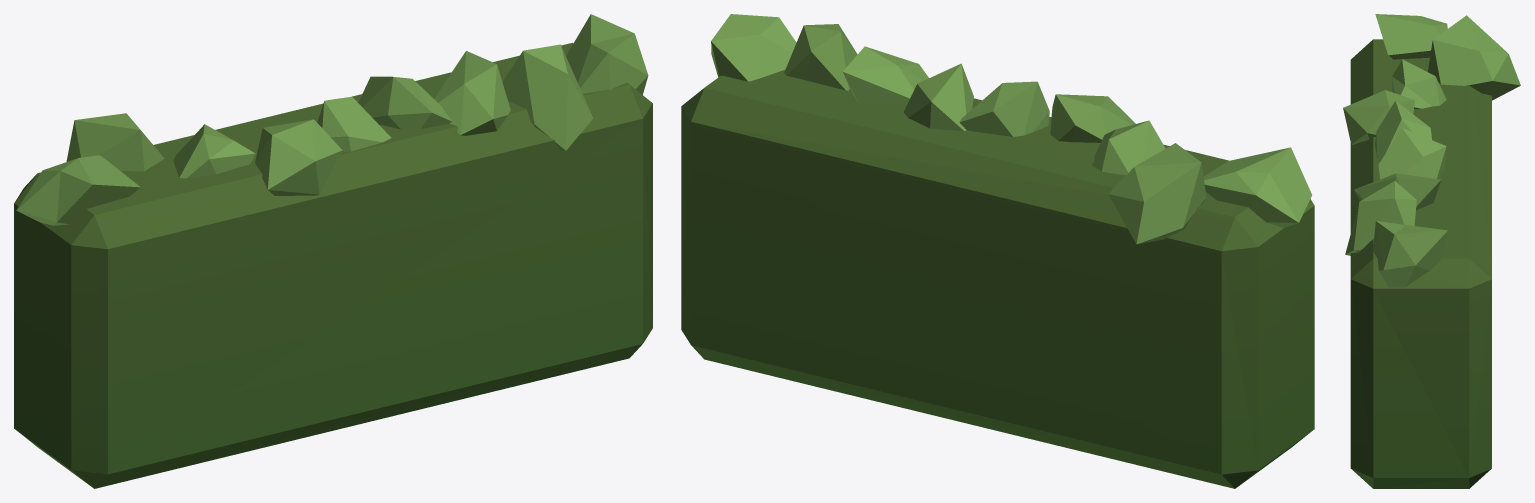
File: topiary_hedge_01.glb
The picture shows the model from 3 angles, left to right: view 1: azimuth 30°, elevation 25°; view 2: azimuth 150°, elevation 25°; view 3: azimuth 270°, elevation 25°; orthographic projection. The views are drawn at different scales.
Parts seen in each view (by area): view 1: topiary_hedge_01; view 2: topiary_hedge_01; view 3: topiary_hedge_01.
Boxes of the visible parts, box(x1,y1,x2,y2) form: topiary_hedge_01: box(14, 14, 652, 488); topiary_hedge_01: box(681, 14, 1314, 488); topiary_hedge_01: box(1343, 14, 1520, 488).
Size of the model in its own units: 2.07 by 1.06 by 0.6303.
